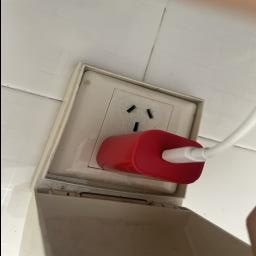outlet: (32, 56, 224, 209)
